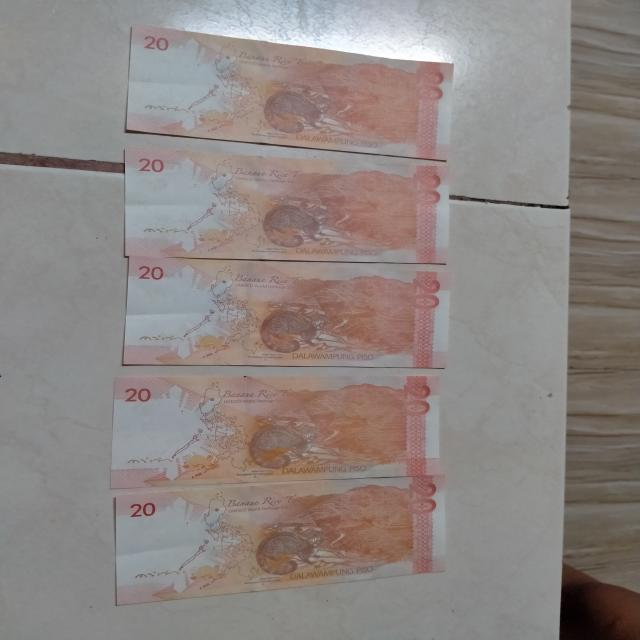20_civet: (252, 302, 327, 356)
20_civet_watermark: (175, 446, 224, 481), (188, 327, 236, 355)
